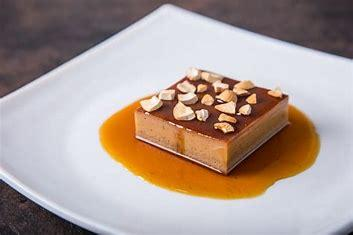Watalappam: (132, 42, 306, 183)
